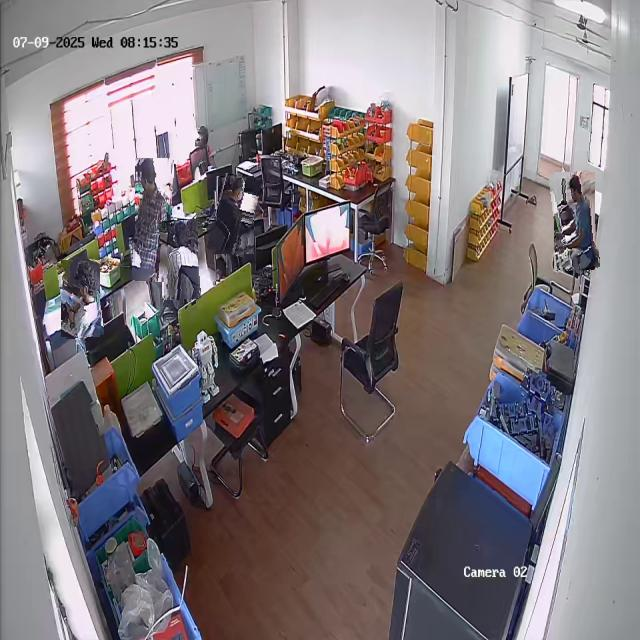person: (133, 157, 172, 282), (551, 171, 598, 271), (212, 175, 258, 256), (59, 259, 102, 338), (161, 219, 199, 300)
